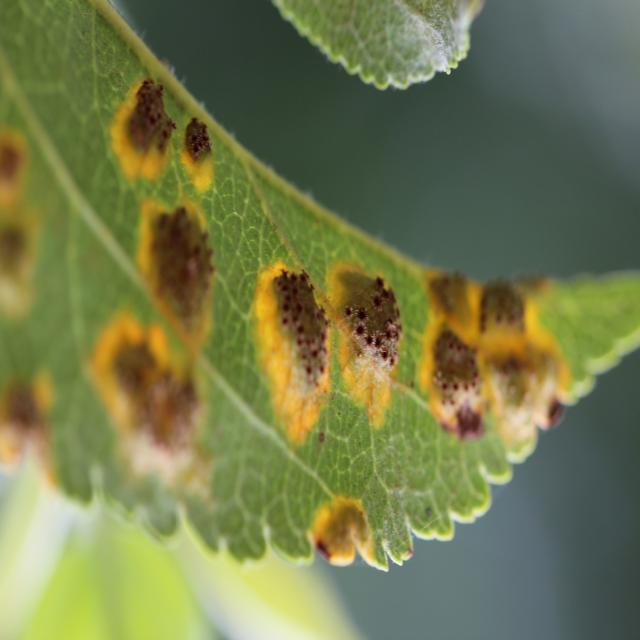Gymnosporangium_Rusts: (5, 17, 640, 591)
